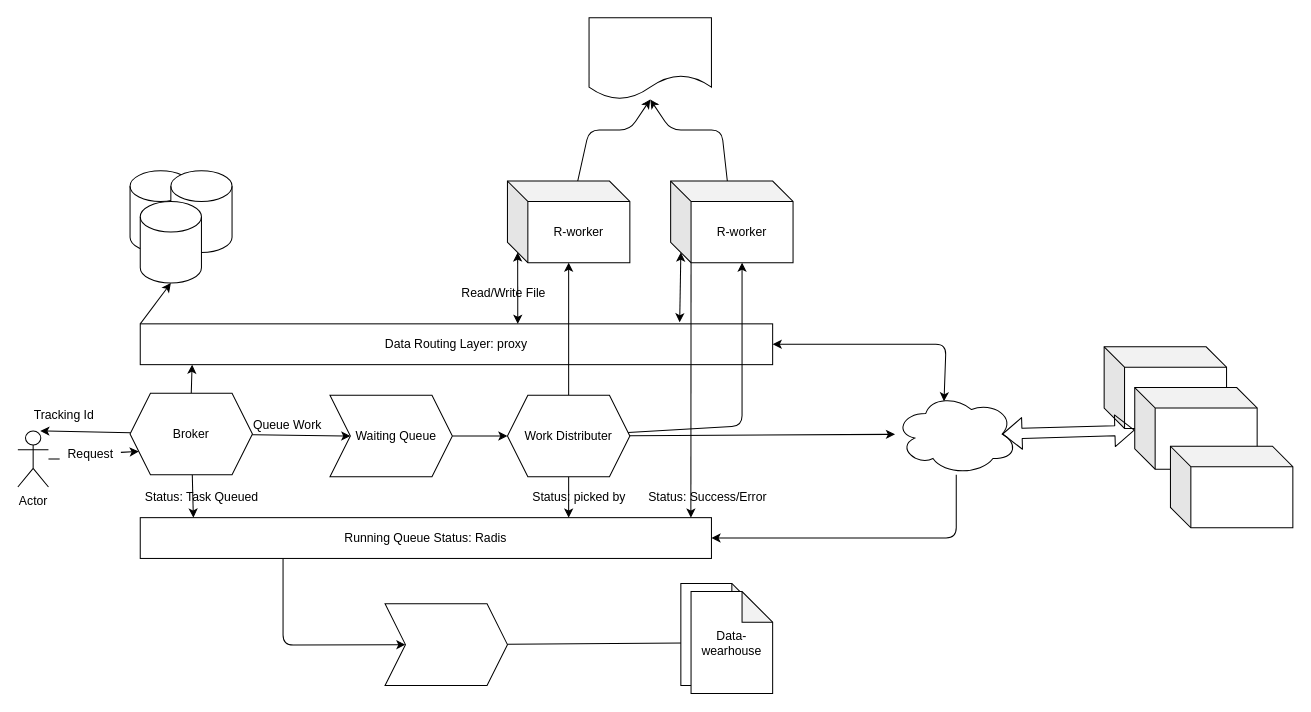
Image size: 1311x712. Some labels were removed from this diagram. Each missing label, with the box of its shape:
Analyse (Task): (384, 603, 507, 685)
heart-beat: (588, 17, 711, 99)
Lambda/server: (894, 392, 1017, 475)
Mongo: (139, 200, 201, 283)
